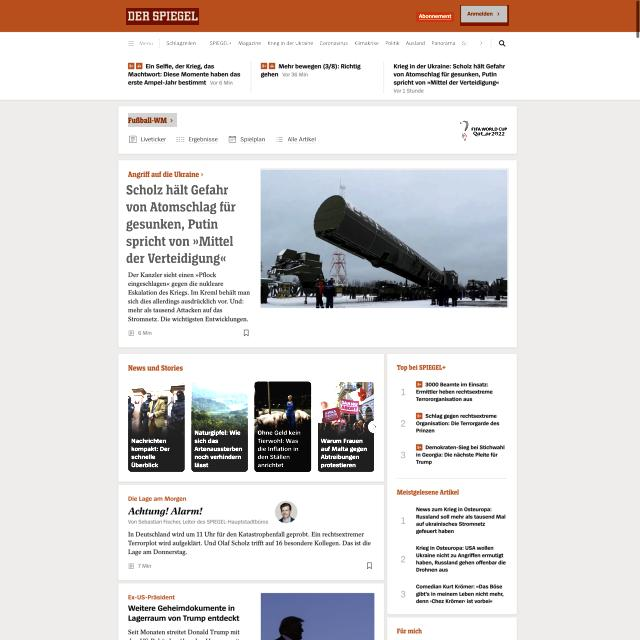CheckBox: (460, 5, 509, 28), (416, 12, 454, 22)
Switch: (126, 379, 382, 478)
accordion: (0, 50, 640, 58)
breadcrumbs: (128, 113, 177, 127)
carousel: (498, 37, 508, 51)
copy: (260, 168, 509, 308), (253, 380, 312, 473), (316, 380, 375, 473), (190, 381, 248, 473), (127, 382, 185, 472)
date picker: (452, 118, 511, 145), (126, 8, 199, 25)
decoration: (164, 35, 487, 51), (128, 131, 321, 146), (125, 37, 155, 49)
image: (125, 182, 244, 268)
